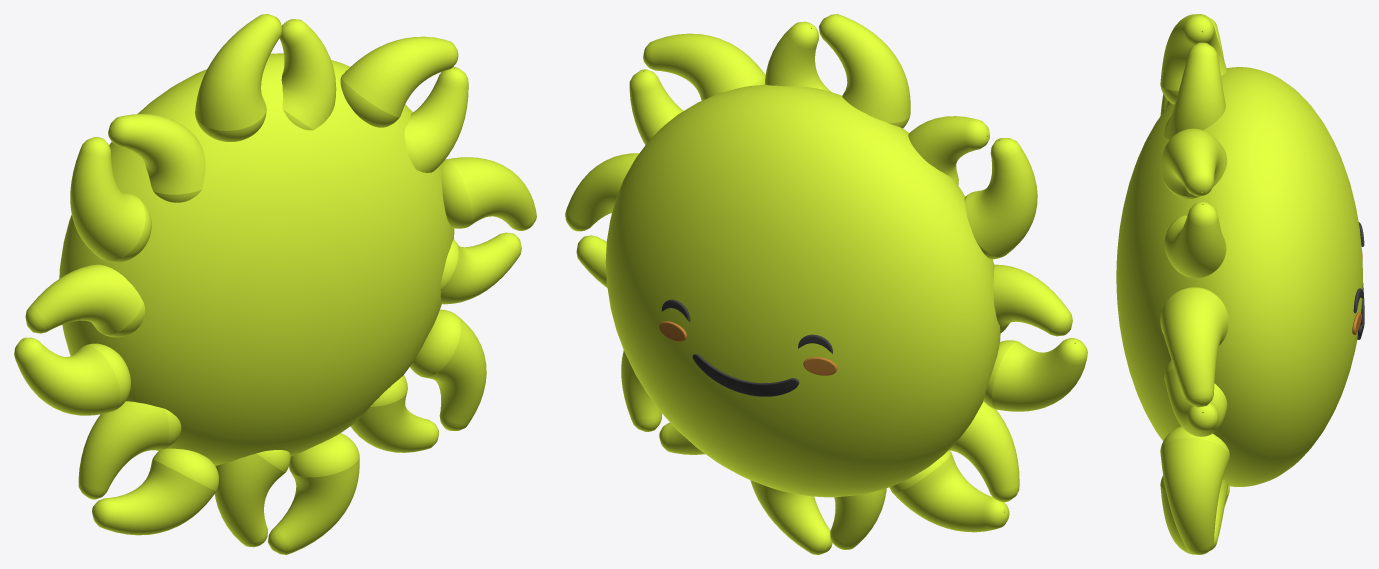
Rendered from Format2.fbx.
The picture shows the model from 3 angles, left to right: view 1: azimuth 30°, elevation 25°; view 2: azimuth 150°, elevation 25°; view 3: azimuth 270°, elevation 25°; orthographic projection. The views are drawn at different scales.
Visible parts, largest first — view 1: BODY, SUN; view 2: BODY, SUN, FACE; view 3: BODY, SUN, FACE.
Part boxes in pixels (<box>): BODY: <box>59,53,454,465</box>; SUN: <box>14,14,536,554</box>; BODY: <box>605,84,1000,497</box>; SUN: <box>565,14,1087,554</box>; FACE: <box>659,299,837,396</box>; BODY: <box>1116,67,1362,486</box>; SUN: <box>1160,14,1229,554</box>; FACE: <box>1352,222,1364,339</box>.
Bounding box in the file's own units: 2066 × 2066 × 883.
